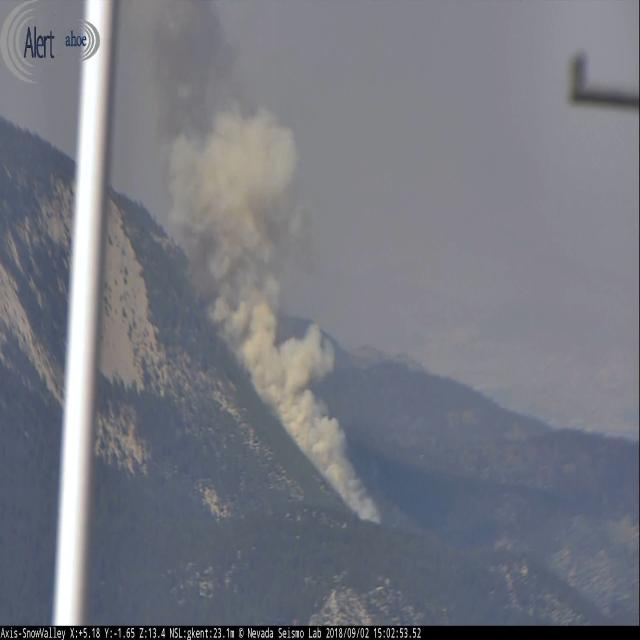smoke: (123, 0, 382, 524)
